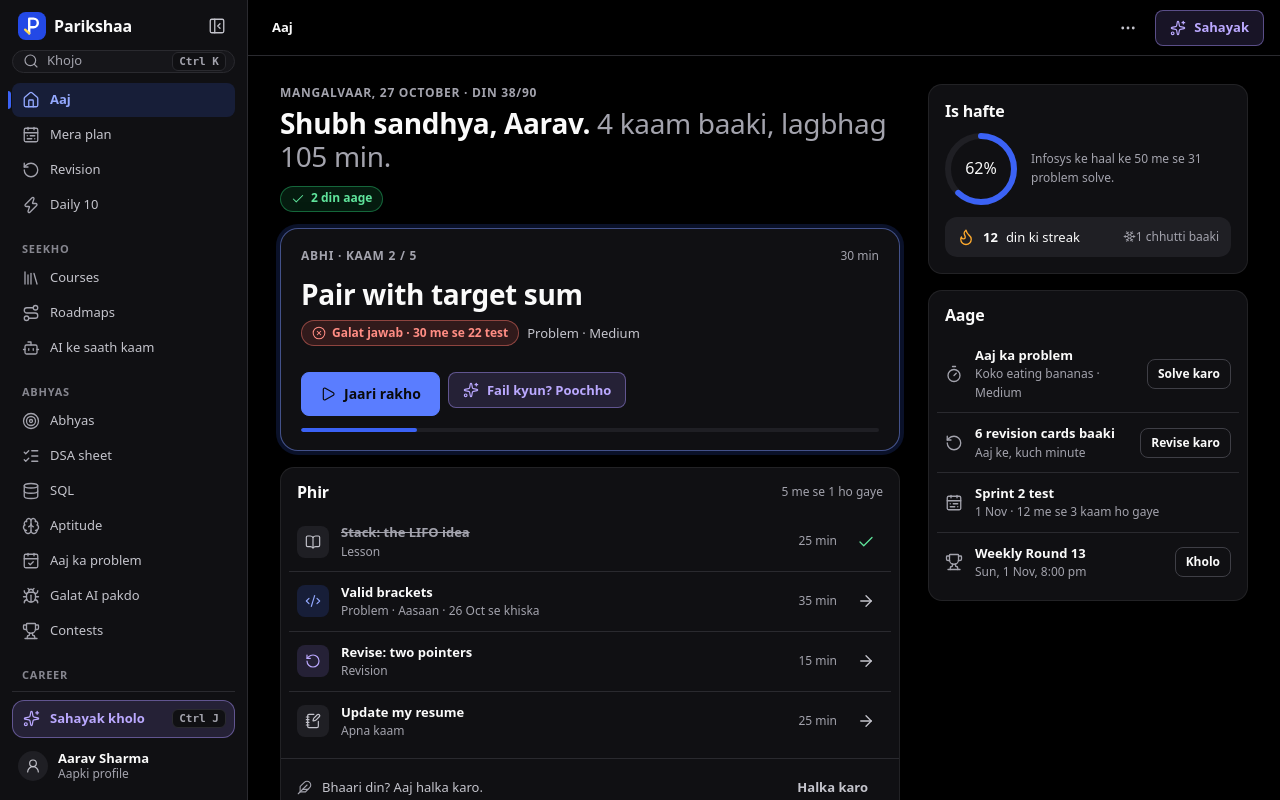
Aaj, signed in › puts the first open task in front, with its wrong answer from the judge and the way to resume or ask why
Check: the text "Abhi · kaam 2 / 5" is shown, box top-left (301, 247), bottom-right (417, 265)
Check: the text "30 min" is shown, box top-left (840, 247), bottom-right (879, 265)
Click the button "Fail kyun? Poochho" at (537, 390), box top-left (448, 372), bottom-right (626, 408)
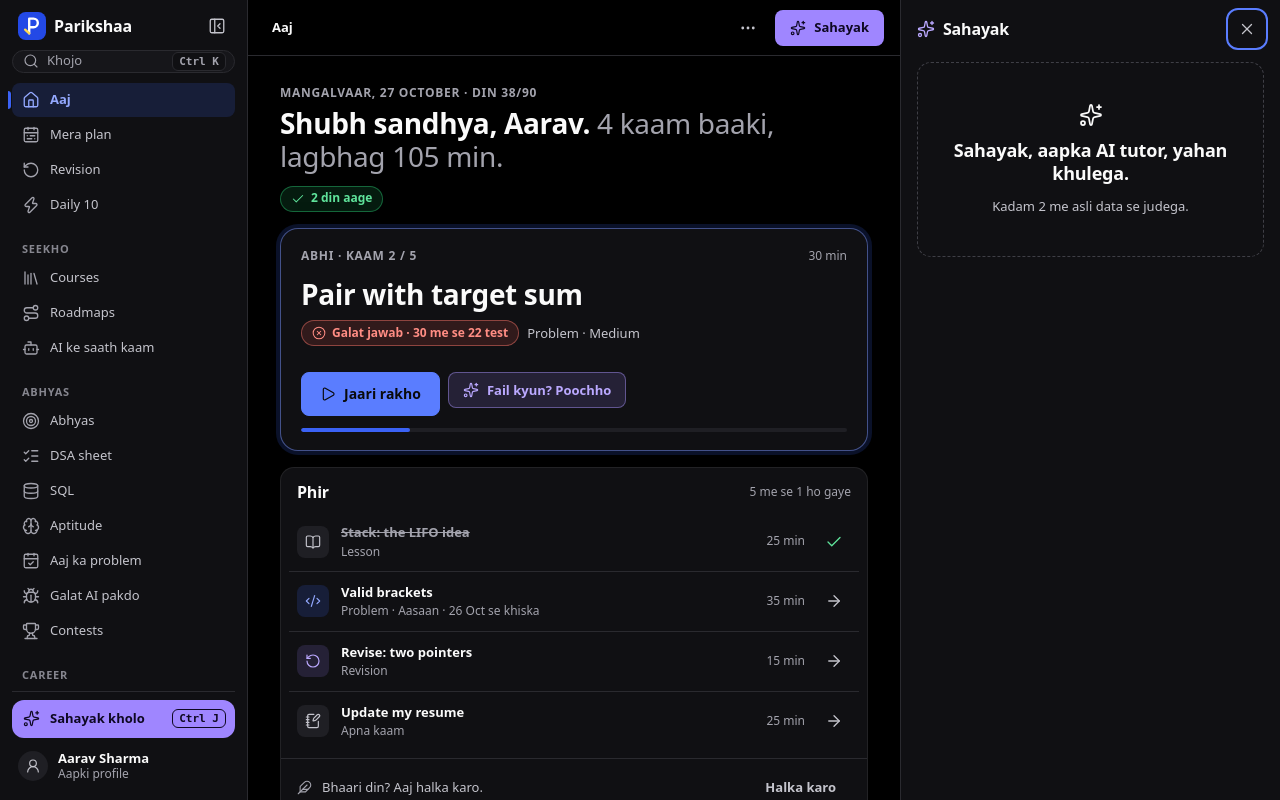
Check: the element "Sahayak" is shown, box top-left (900, 0), bottom-right (1279, 799)
